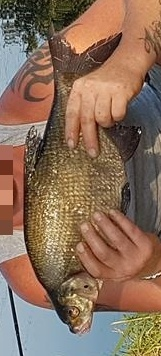Abramis brama: (20, 20, 141, 336)
